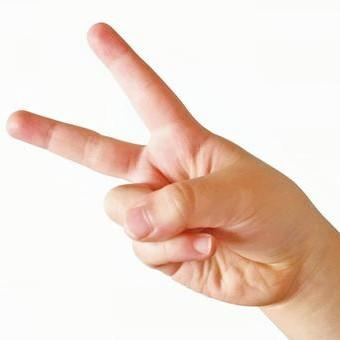tyoki: (5, 21, 296, 306)
